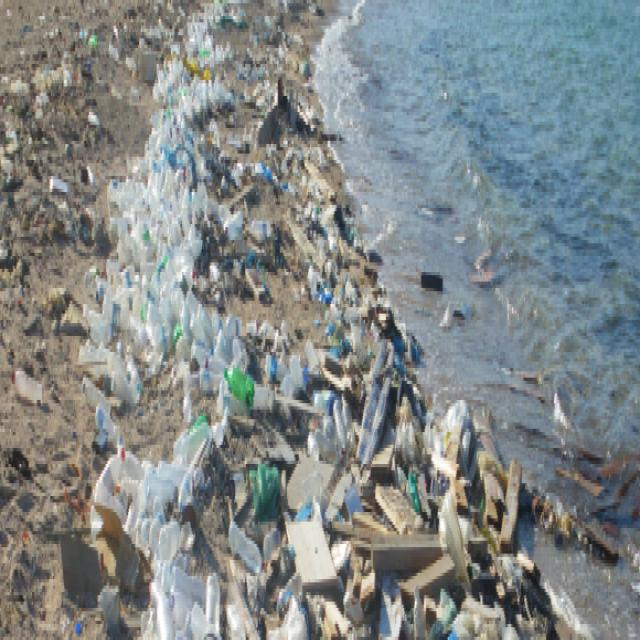garbage: (83, 2, 323, 640), (324, 292, 520, 640)
